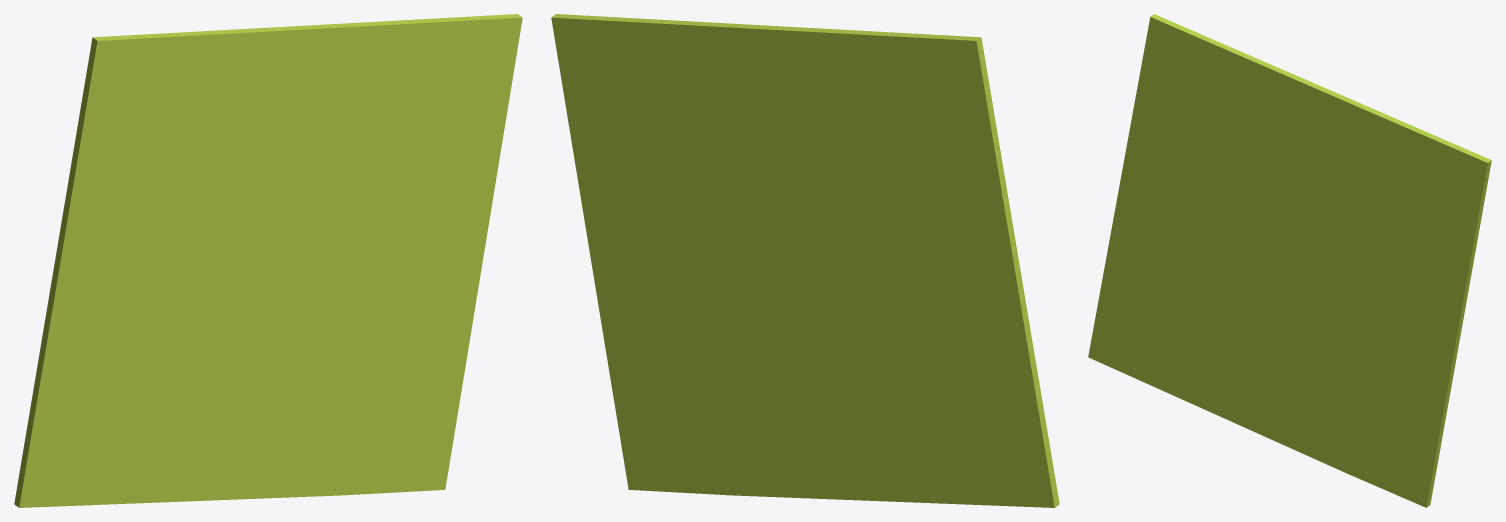
3 renders of one model, left to right at view 1: azimuth 30°, elevation 25°; view 2: azimuth 150°, elevation 25°; view 3: azimuth 330°, elevation 25°, orthographic. The views are drawn at different scales.
Parts seen in each view (by area): view 1: osm-way27917482-F2; view 2: osm-way27917482-F2; view 3: osm-way27917482-F2.
Boxes of the visible parts, x1,y1,x2,y2 form: osm-way27917482-F2: (14,14,522,507); osm-way27917482-F2: (551,14,1059,507); osm-way27917482-F2: (1088,14,1491,507).
Size of the model in its own units: 8.74 by 8.85 by 0.15.
